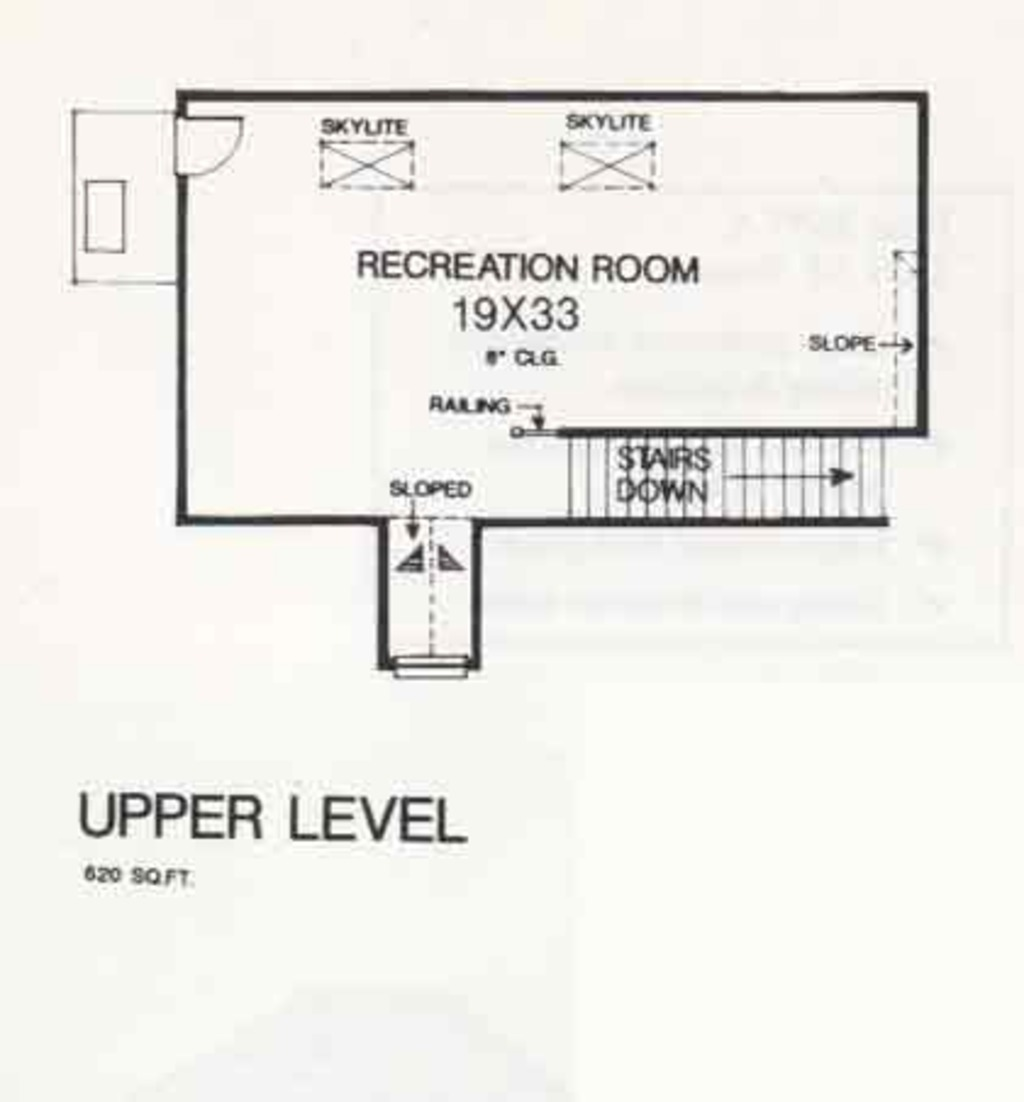door: (165, 107, 250, 182)
stairs: (534, 426, 889, 532)
